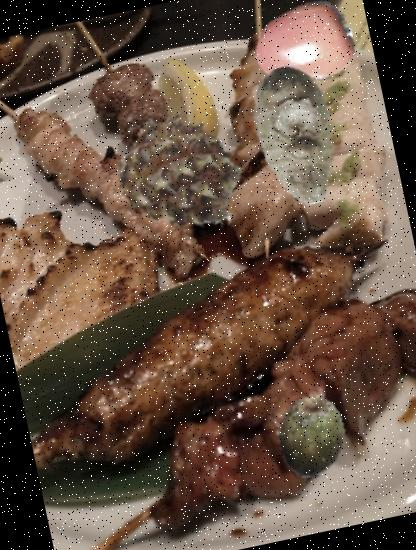Cactus: (259, 386, 360, 488)
Ginger: (213, 52, 380, 220)
Kaki: (243, 0, 363, 102)
Pineapple: (106, 96, 258, 248)
